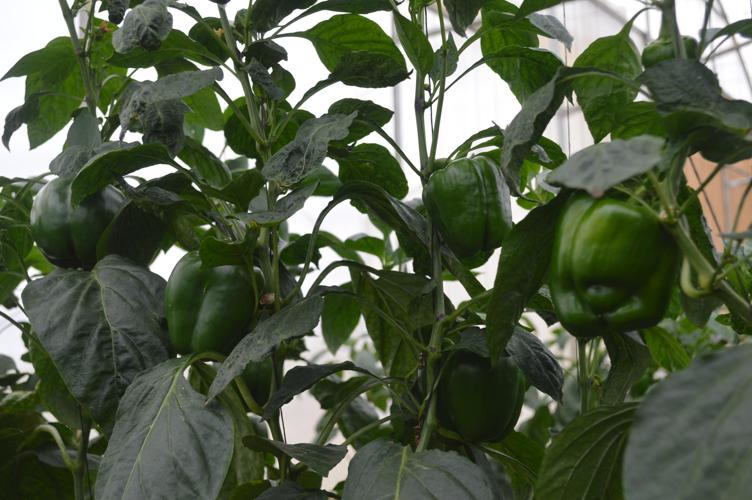BellPepper: (542, 192, 686, 332), (158, 253, 260, 357), (429, 345, 532, 445), (414, 154, 513, 254), (29, 178, 126, 272)
